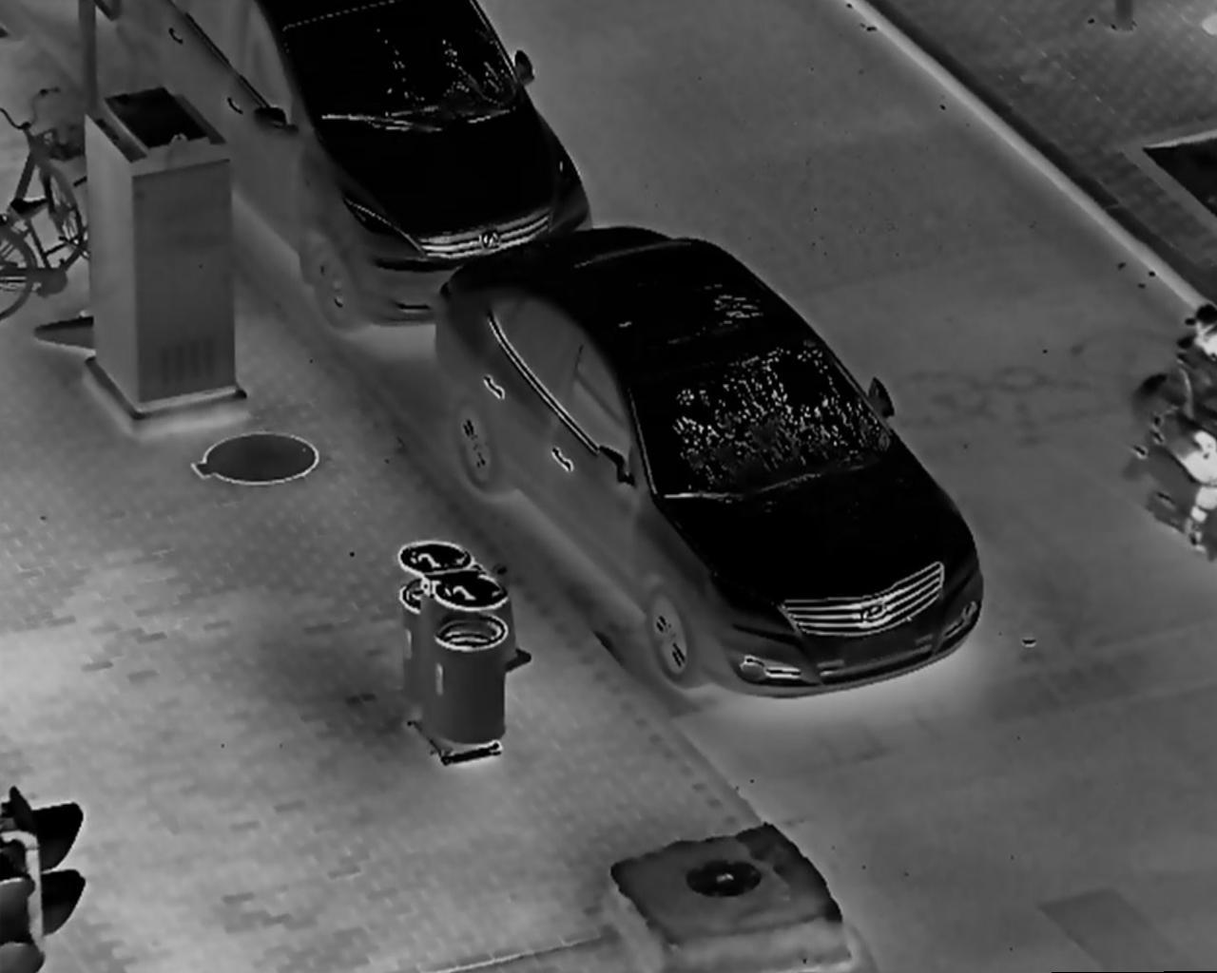person: (1149, 292, 1217, 561)
